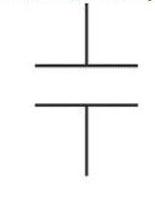Capacitor: (24, 37, 143, 132)
